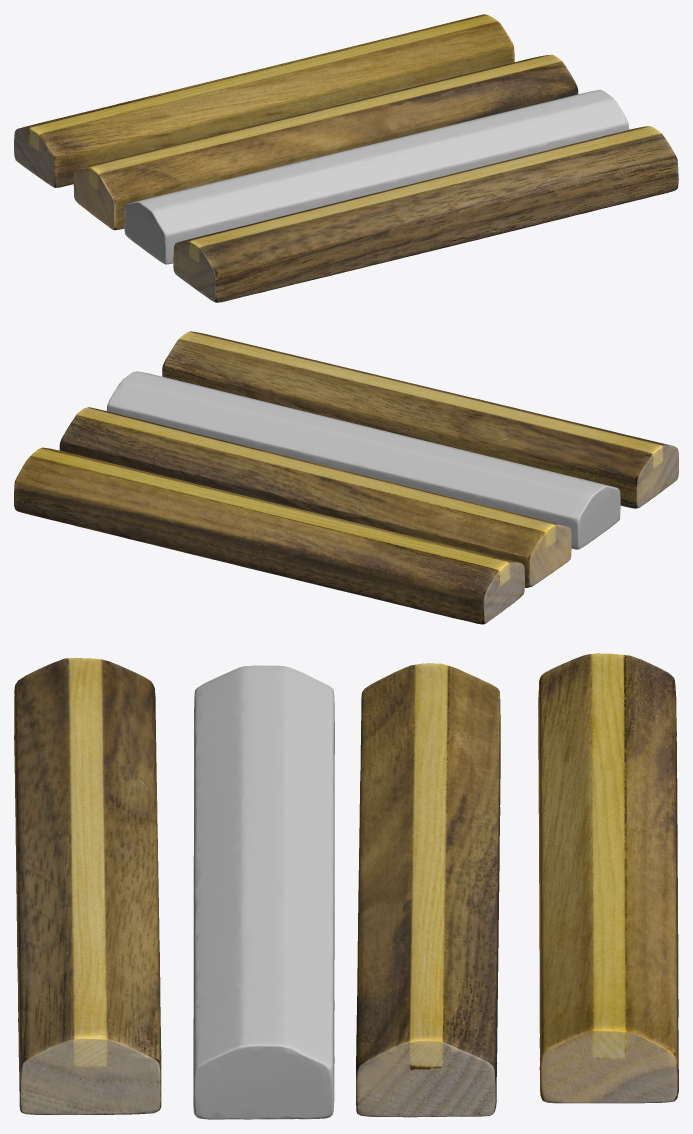
The model's file is yut.gltf.
The picture shows the model from 3 angles, top to bottom: view 1: azimuth 30°, elevation 25°; view 2: azimuth 150°, elevation 25°; view 3: azimuth 270°, elevation 25°; orthographic projection. The views are drawn at different scales.
Visible parts, largest first — view 1: asd_3_phong6_0, asd_2_phong5_0, asd_4_phong7_0, asd_1_phong4_0; view 2: asd_2_phong5_0, asd_3_phong6_0, asd_4_phong7_0, asd_1_phong4_0; view 3: asd_3_phong6_0, asd_4_phong7_0, asd_1_phong4_0, asd_2_phong5_0.
Boxes of the visible parts, x1,y1,x2,y2 form: asd_3_phong6_0: (173, 126, 678, 302); asd_2_phong5_0: (14, 14, 514, 187); asd_4_phong7_0: (124, 89, 629, 264); asd_1_phong4_0: (73, 54, 578, 230); asd_2_phong5_0: (14, 447, 524, 624); asd_3_phong6_0: (162, 331, 678, 508); asd_4_phong7_0: (106, 371, 620, 549); asd_1_phong4_0: (59, 407, 571, 587); asd_3_phong6_0: (14, 658, 161, 1114); asd_4_phong7_0: (193, 665, 334, 1119); asd_1_phong4_0: (356, 663, 500, 1117); asd_2_phong5_0: (538, 653, 678, 1103).
Size of the model in its own units: 14.75 by 1.48 by 10.69.
